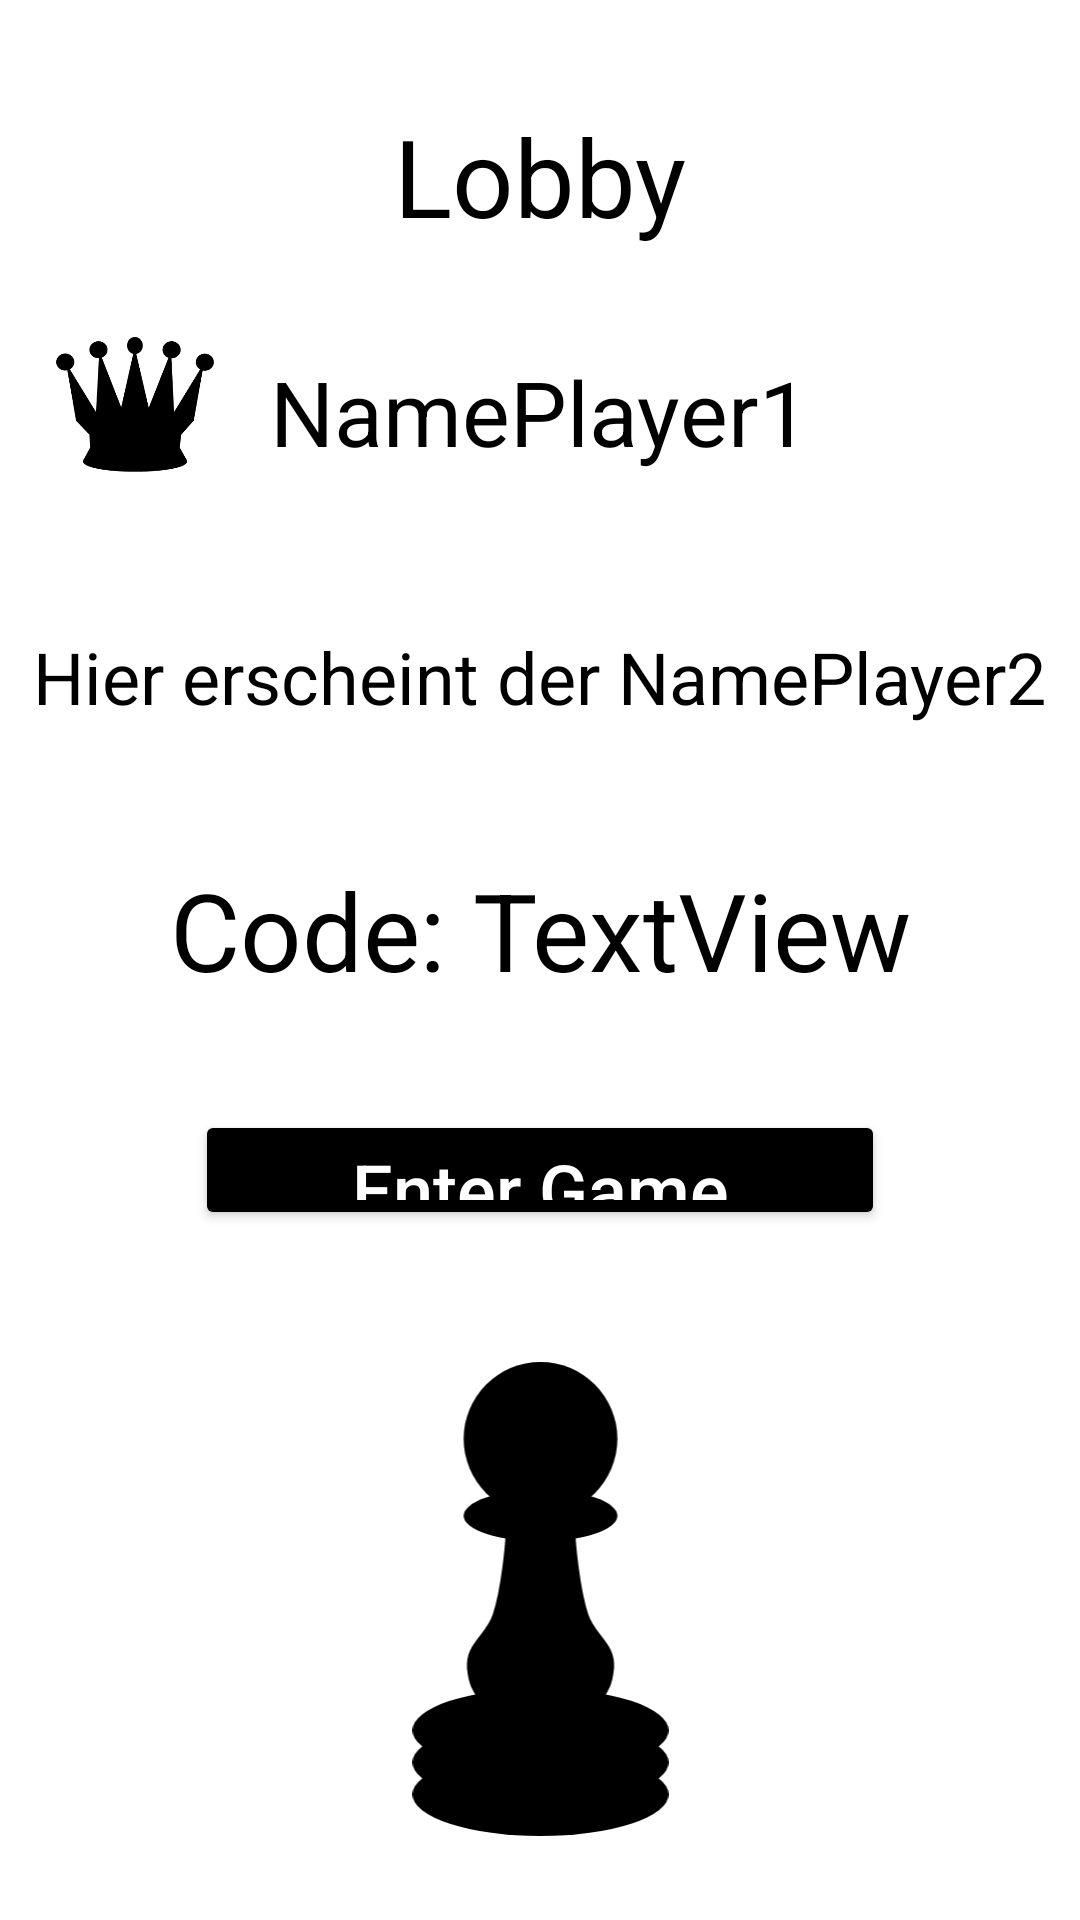

Locate icon controls on the screen. Image size 1080 x 1920, boxes as detection(x1, y1, x2, y2).
queenpic: detection(56, 337, 214, 472)
